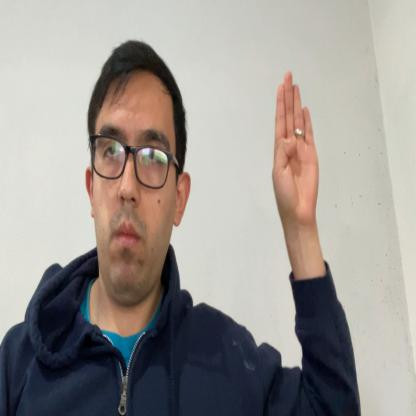B: (272, 72, 319, 228)
